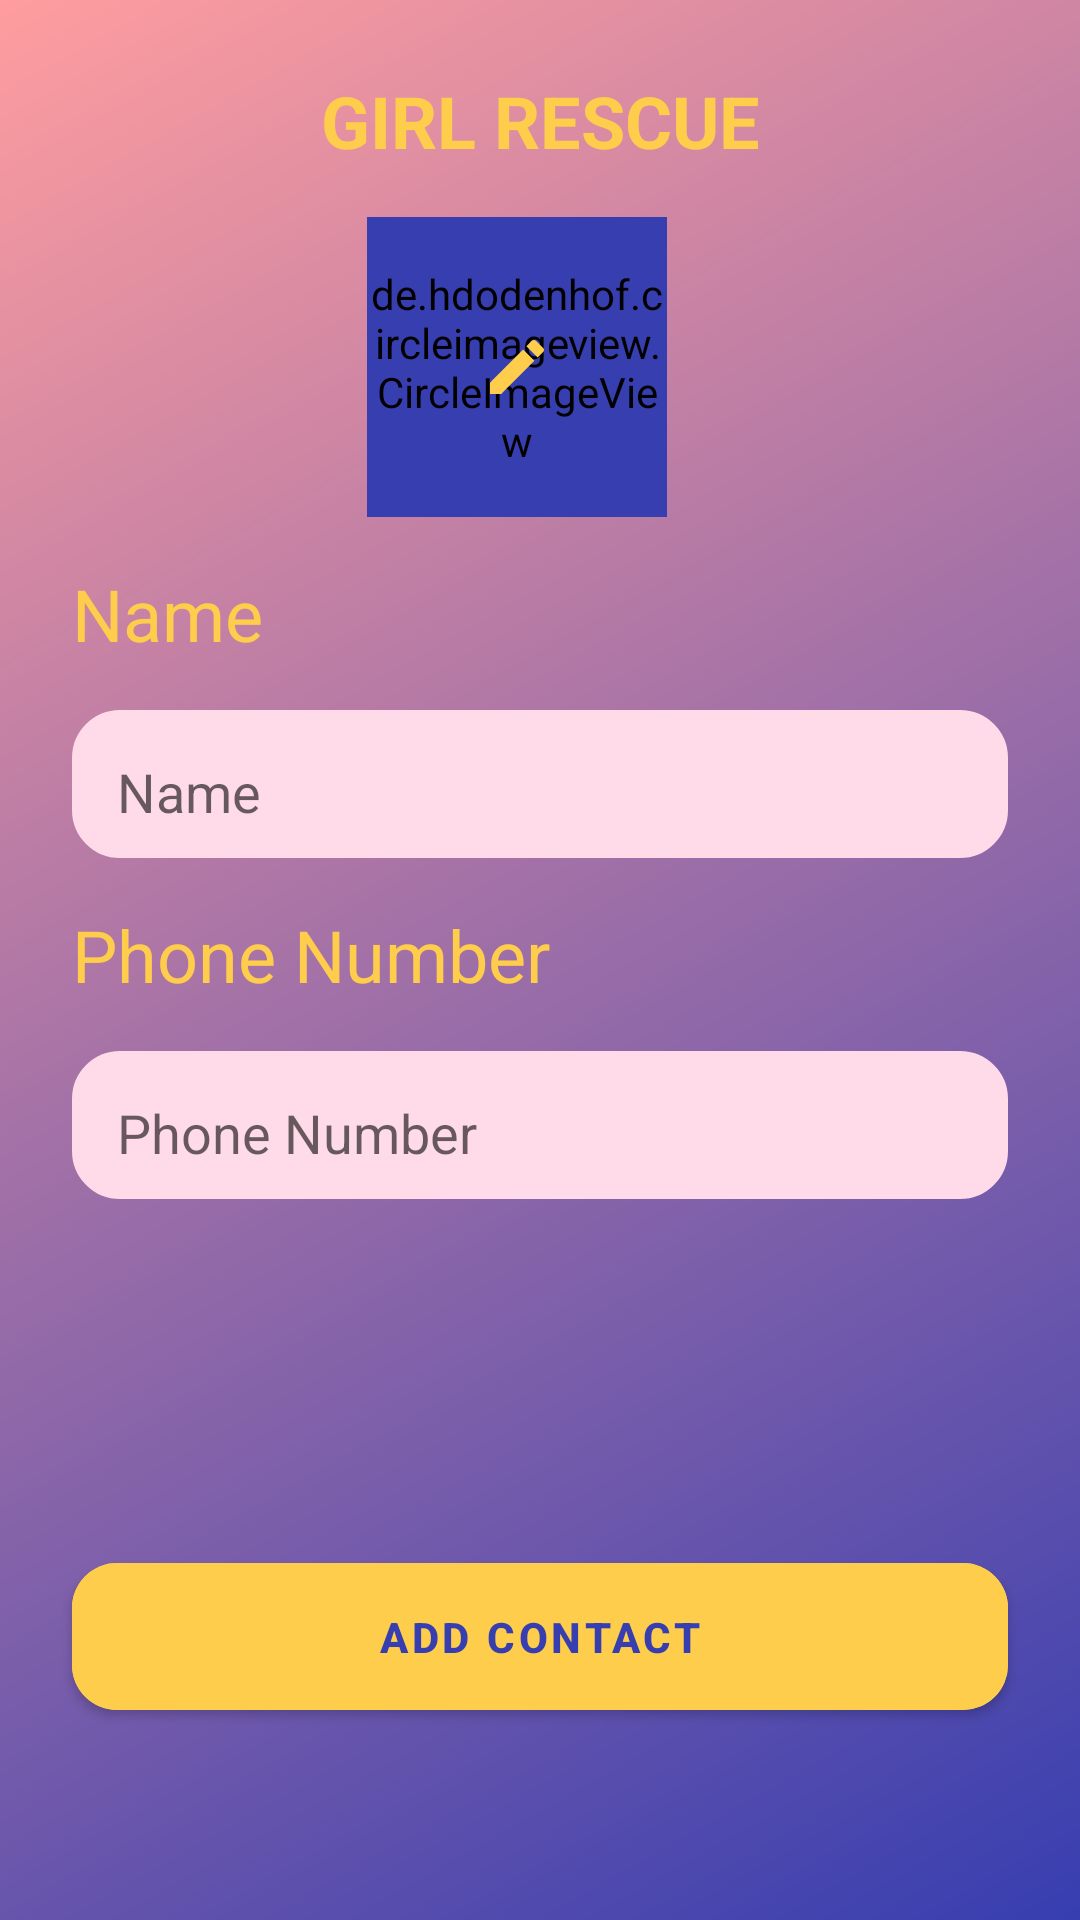

Where icons sit on this 1080x1920 app screen, as (x1, y1, x2, y2):
edit pen: (485, 336, 544, 403)
